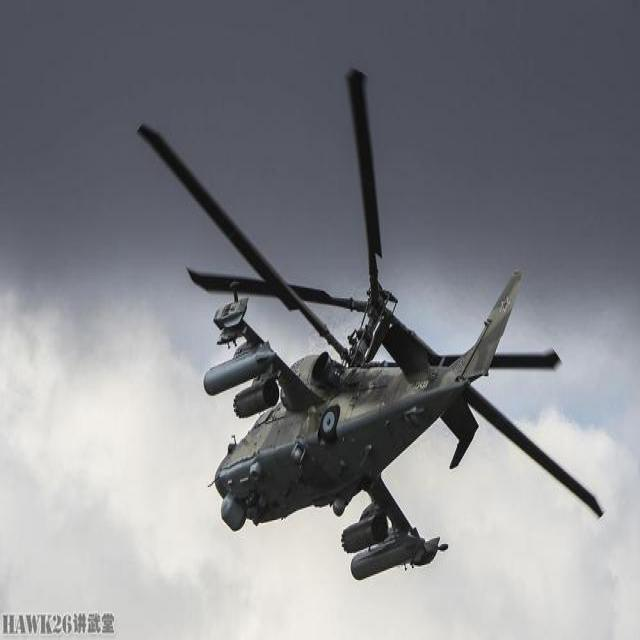MIL_HELO: (135, 61, 616, 582)
